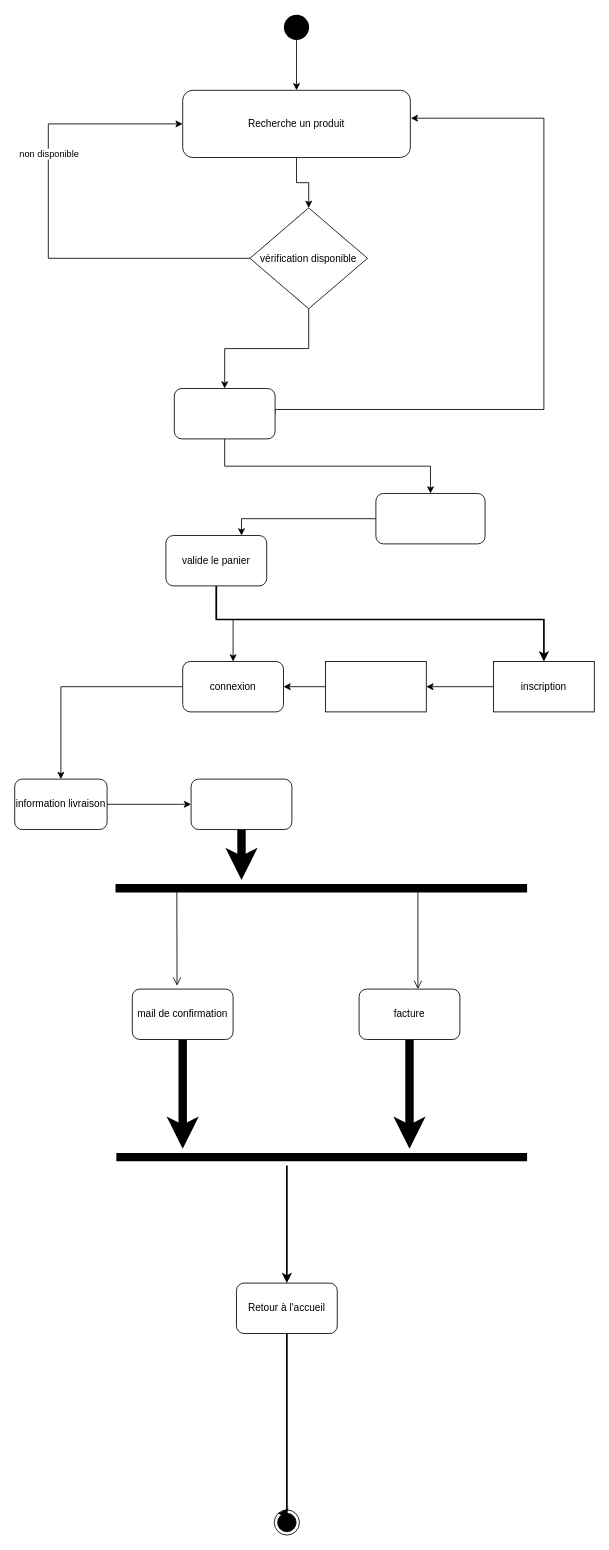
Image size: 609x1550. Some labels were removed from this diagram. The shapes that lost their labels are listed below. From the top down, each one's centre as x and y in pixels, then its label:
point 224,413: Ajoute au panier
point 430,518: consulte le panier
point 375,686: vérification email
point 241,804: validation paiement
